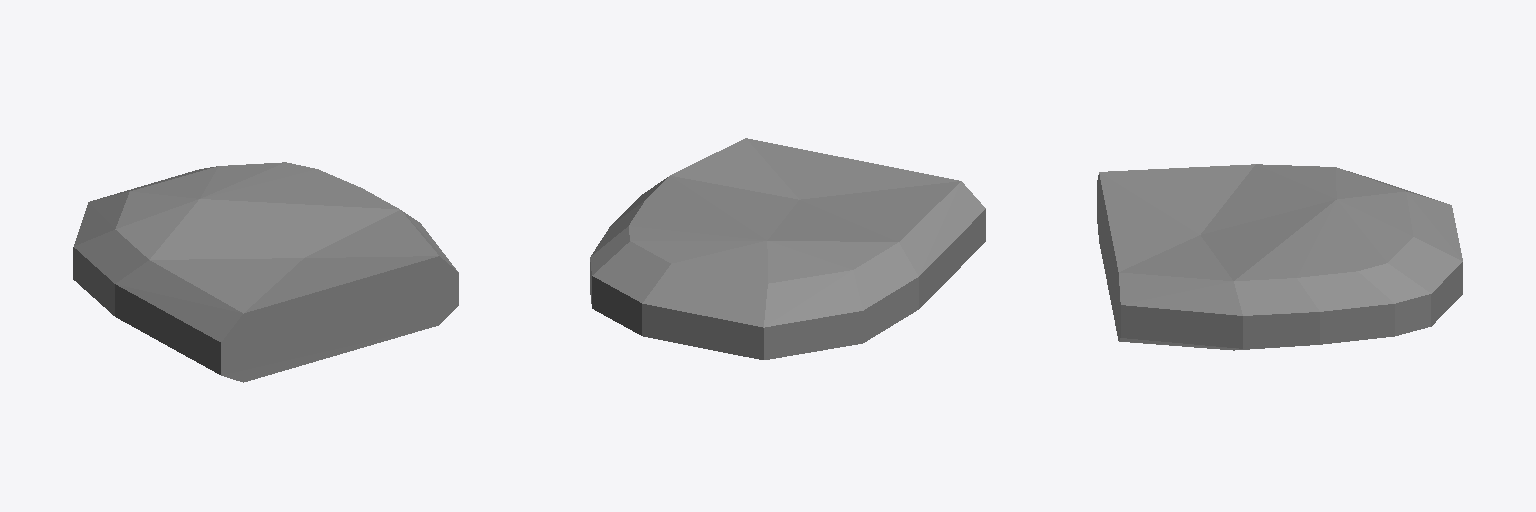
The model's file is carne_cocida.obj.
3 views of the same model, side by side, from view 1: azimuth 30°, elevation 25°; view 2: azimuth 150°, elevation 25°; view 3: azimuth 270°, elevation 25° (orthographic).
Parts seen in each view (by area): view 1: Line001_Mesh; view 2: Line001_Mesh; view 3: Line001_Mesh.
Part boxes in pixels (x1,y1,x2,y2): Line001_Mesh: (73,162,458,382); Line001_Mesh: (590,138,985,359); Line001_Mesh: (1097,164,1462,350).
Bounding box in the file's own units: 0.1548 × 0.0437 × 0.1683.